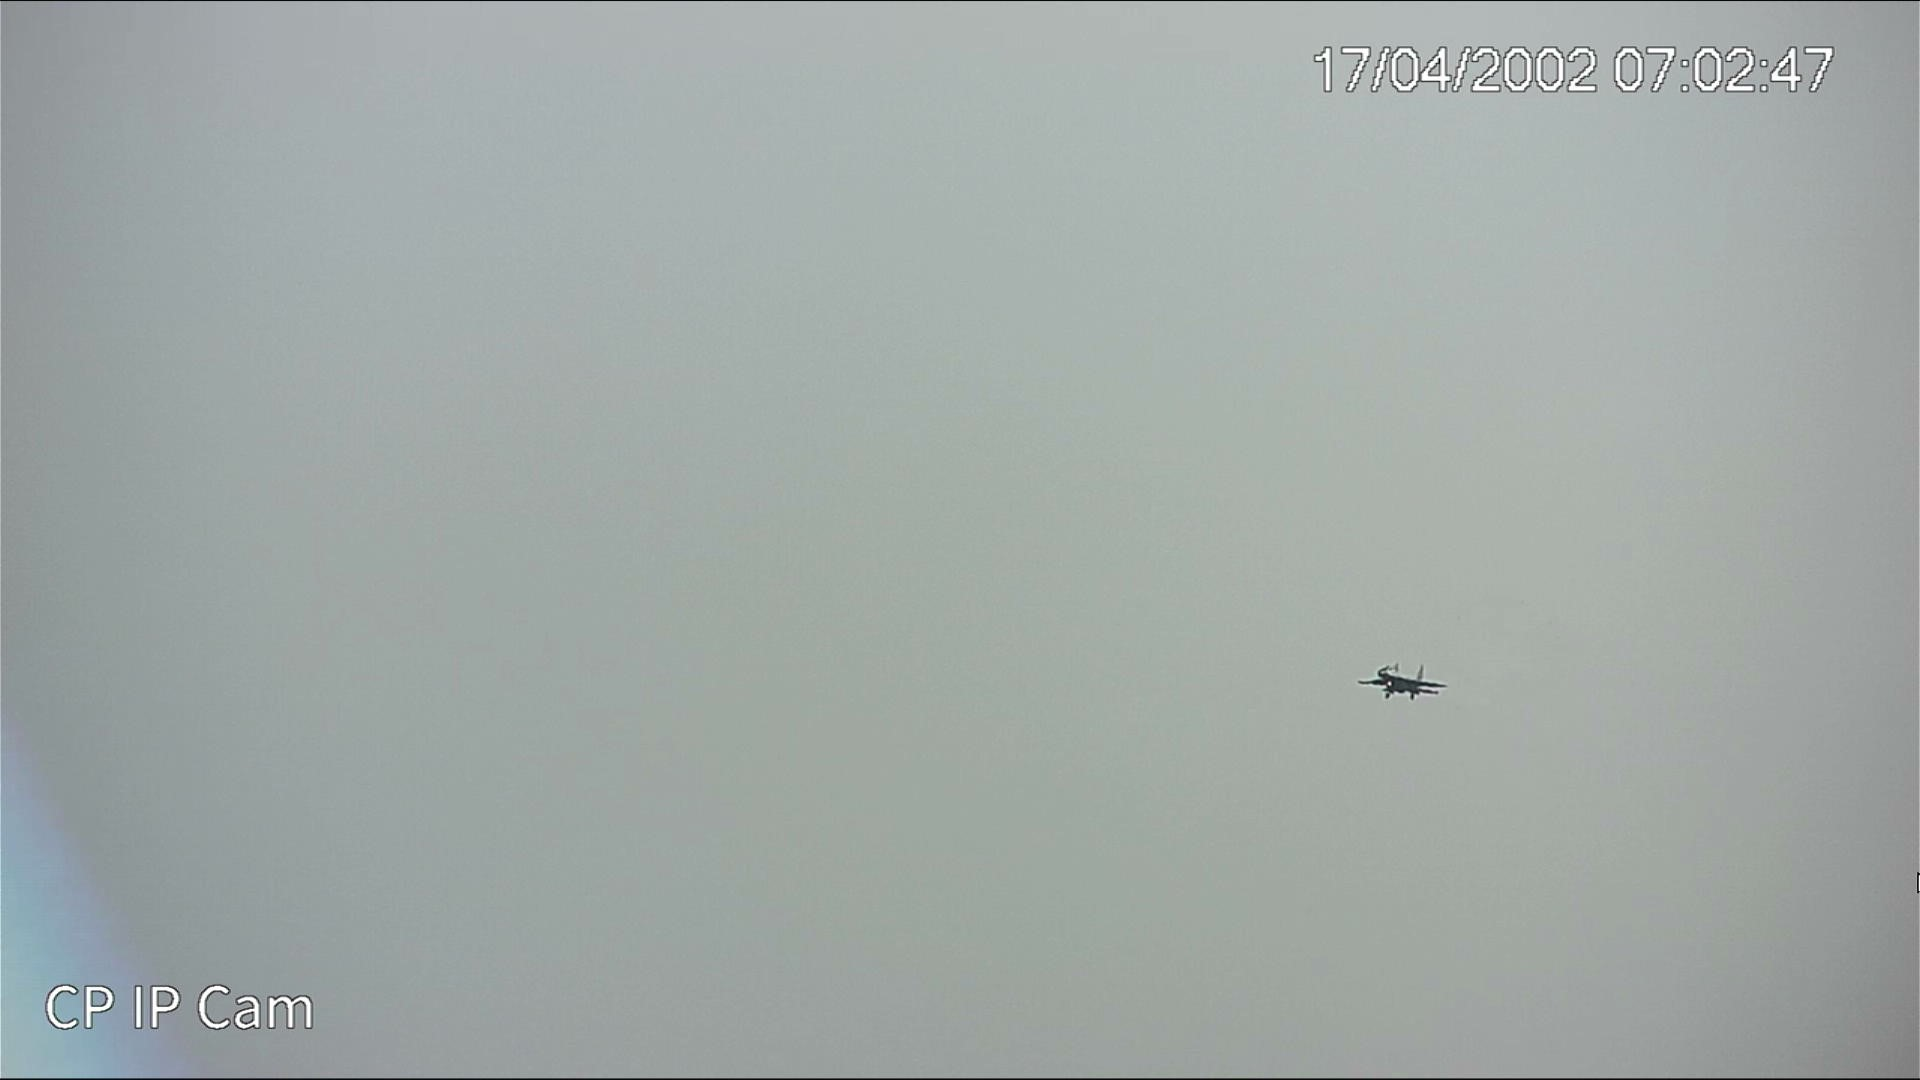SU_30: (1360, 661, 1445, 704)
